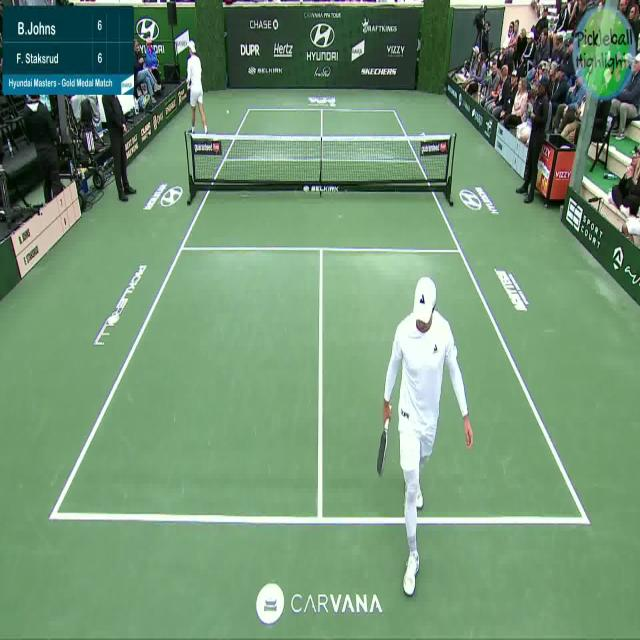Court: (50, 107, 587, 521)
ball: (224, 106, 232, 116)
